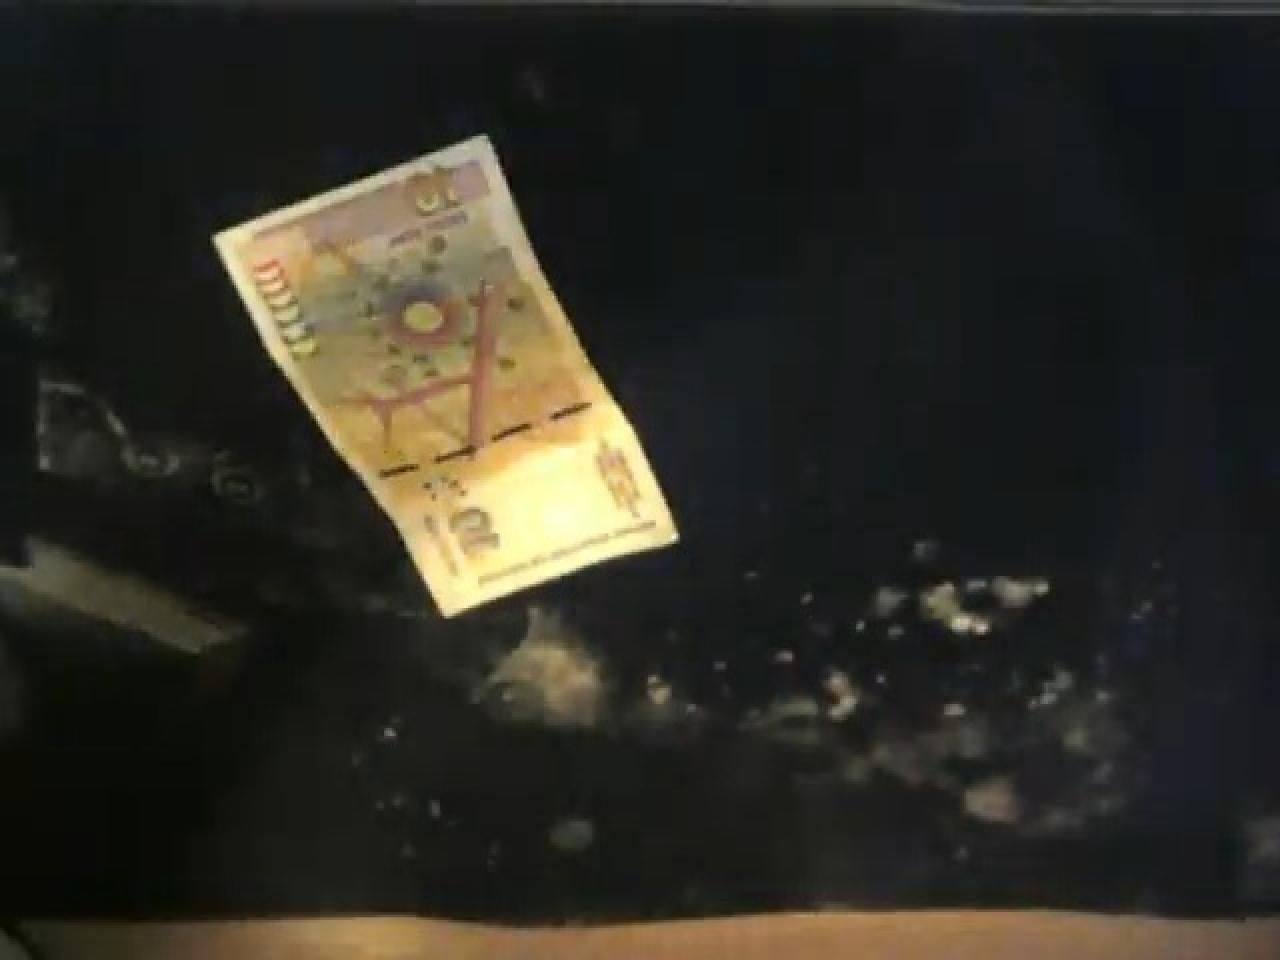10leva: (210, 131, 680, 613)
